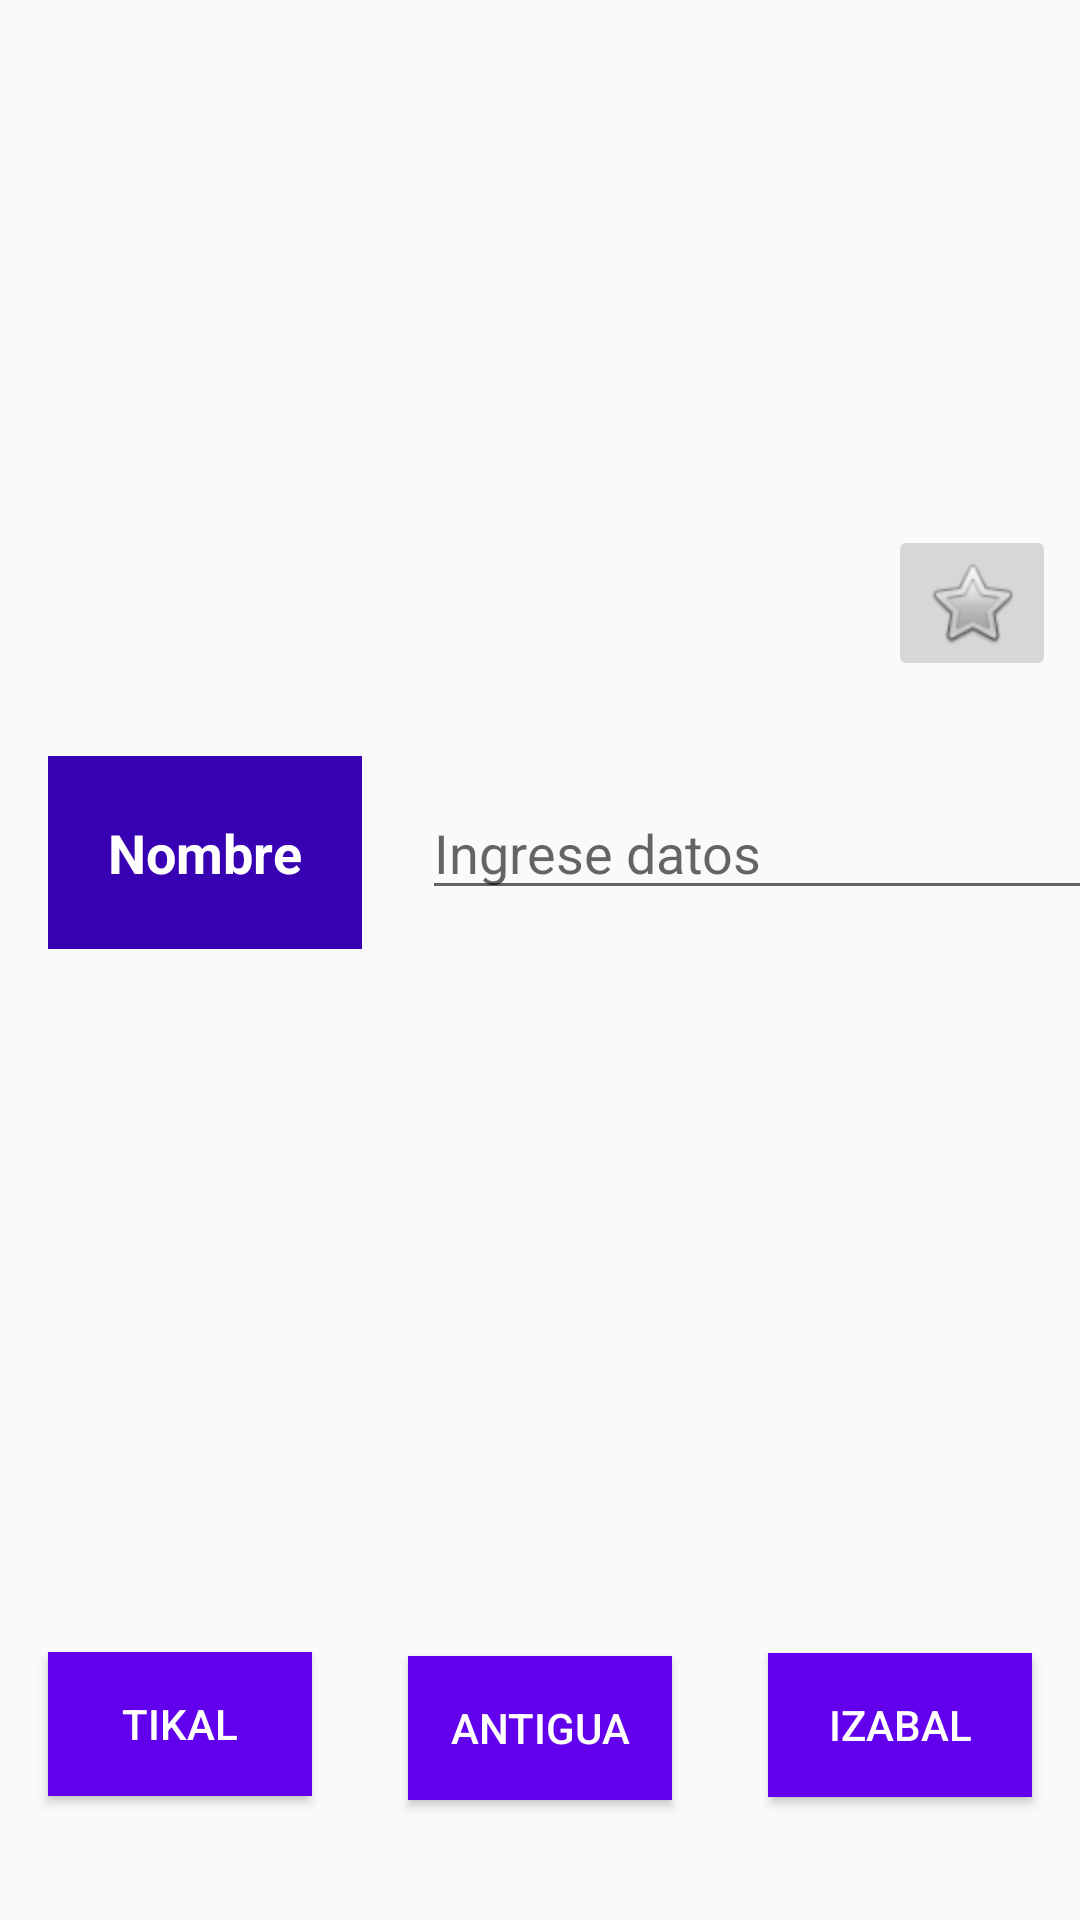

Screen size 1080px×1920px. Icon name, then its center in pixels as (x,y):
star: (972,603)
